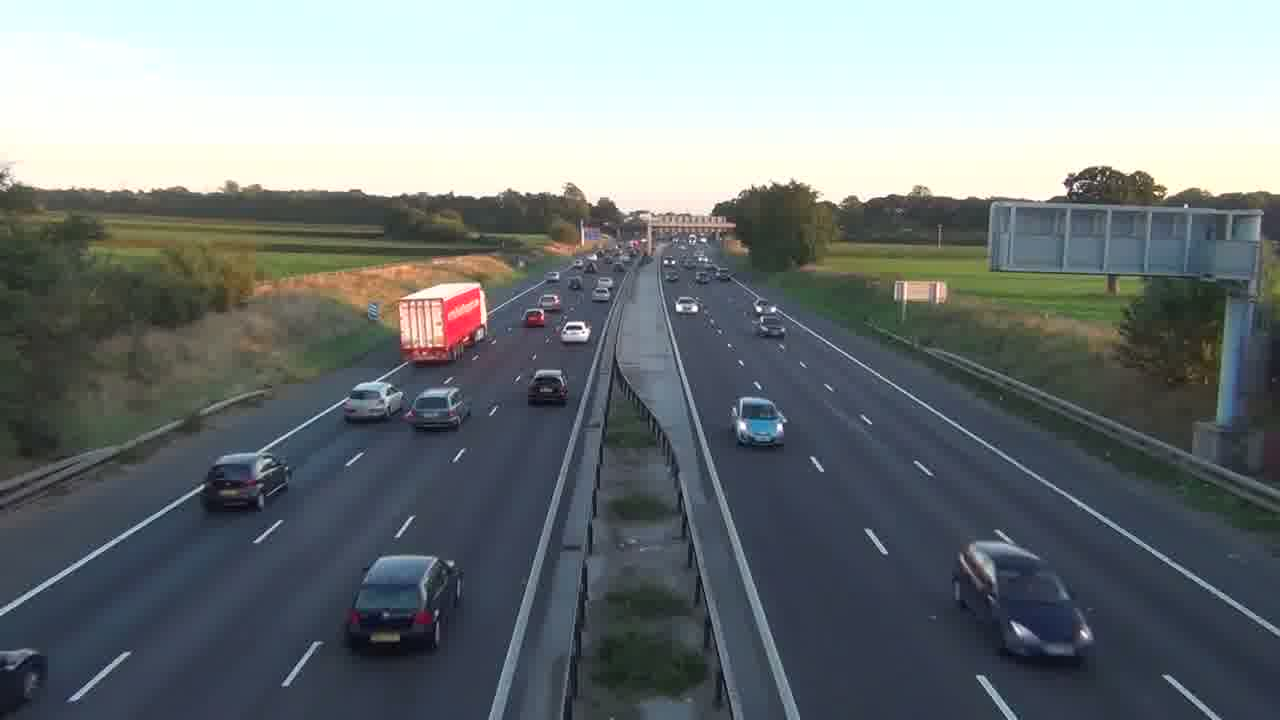car: (342, 554, 464, 654), (203, 451, 290, 511), (732, 396, 787, 448), (409, 386, 470, 432), (343, 380, 407, 423), (527, 369, 569, 405), (560, 320, 592, 343), (674, 295, 701, 314), (523, 308, 545, 327)
truck: (952, 530, 1095, 663), (398, 280, 487, 364)
